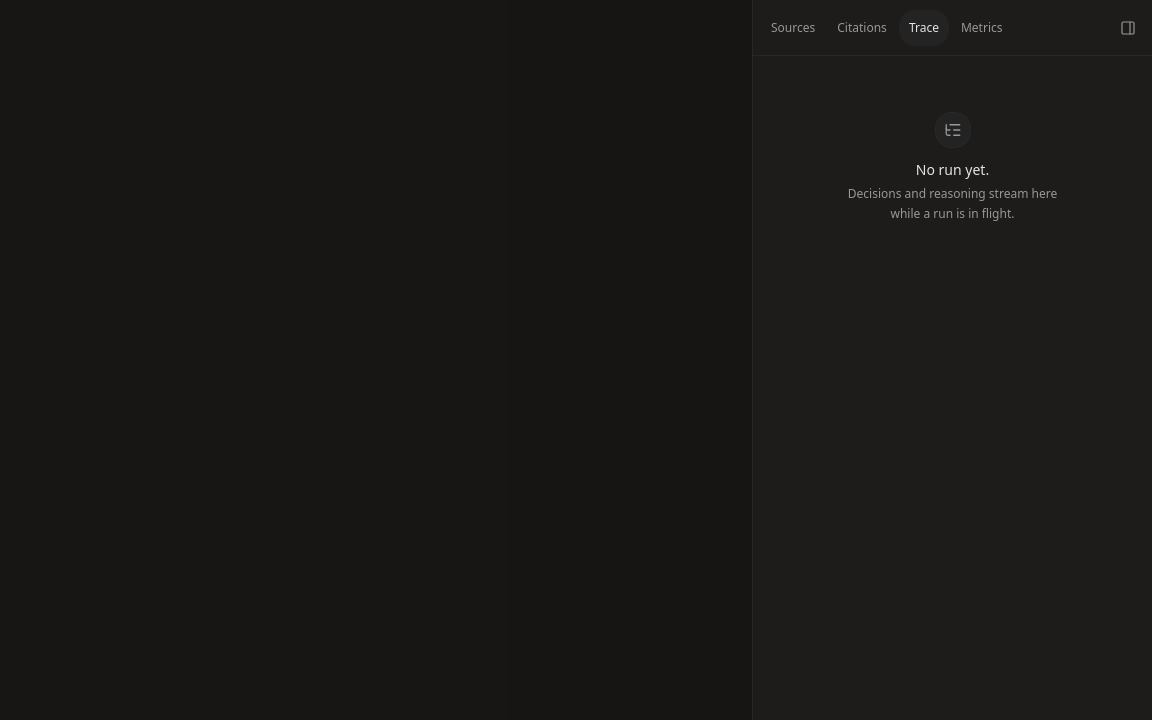
Scenario: workspace panel empty states › Citations, Trace and Metrics each use PanelEmpty
Click the tab "Citations": (862, 28) [827,10,897,46]
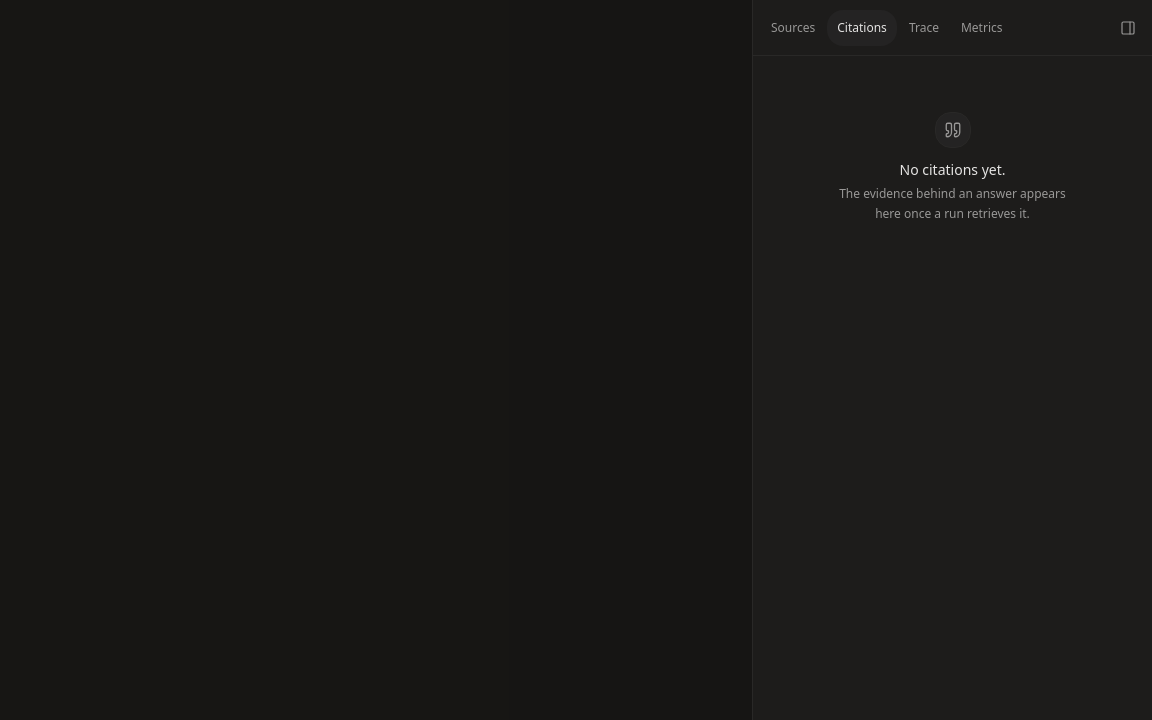
Expected: the text "No citations yet." is shown, [900,160,1006,180]
Expected: the text "The evidence behind an answer appears here once a run retrieves it." is shown, [836,184,1069,224]
Click the tab "Trace": (924, 28) [899,10,949,46]
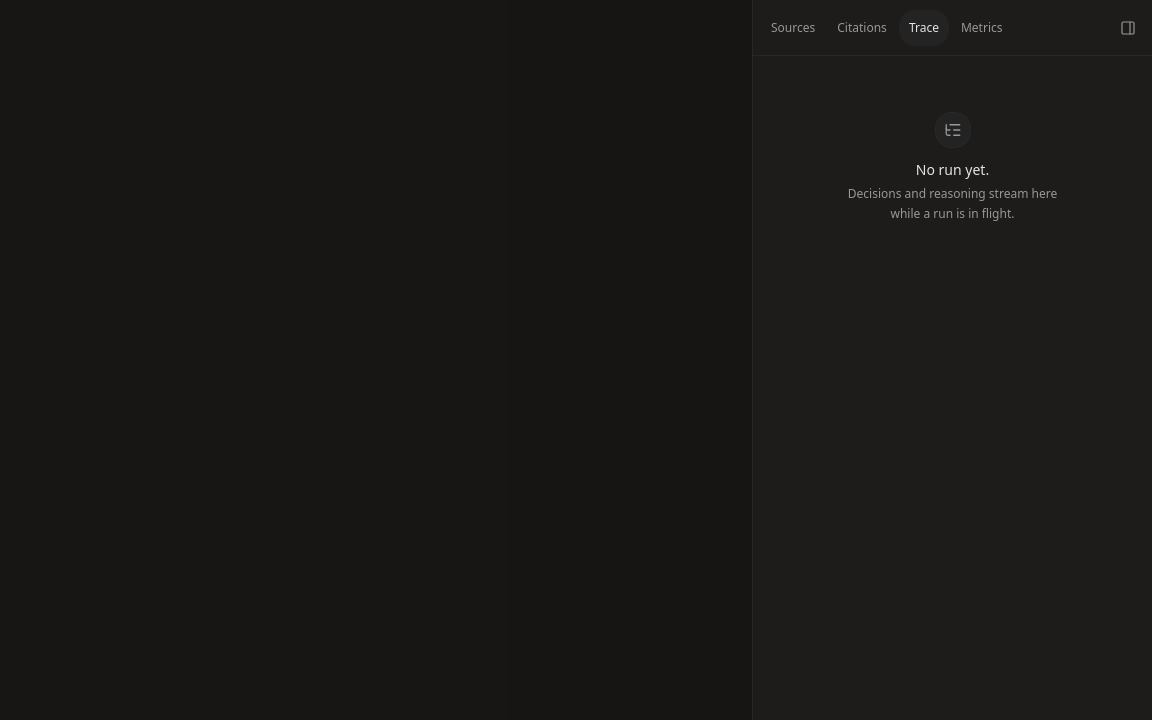
Expected: the text "No run yet." is shown, [916,160,989,180]
Expected: the text "Decisions and reasoning stream here while a run is in flight." is shown, [836,184,1069,224]
Click the tab "Metrics": (982, 28) [951,10,1012,46]
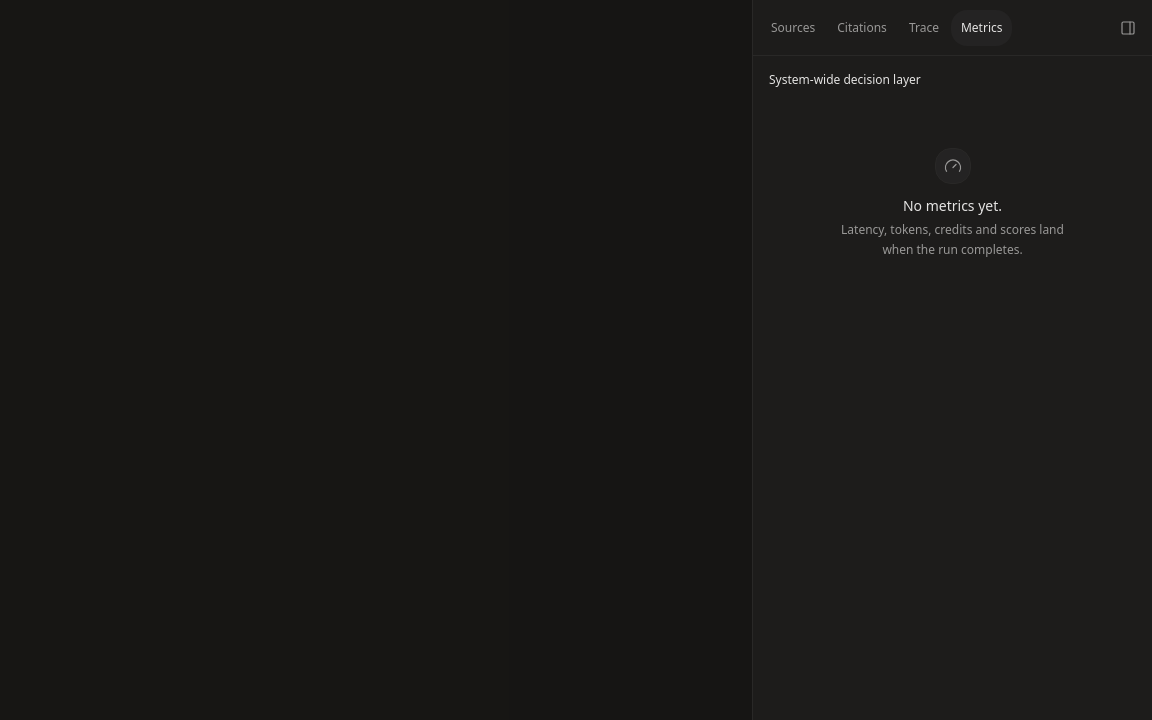
Expected: the text "No metrics yet." is shown, [903,196,1002,216]
Expected: the text "Latency, tokens, credits and scores land when the run completes." is shown, [836,220,1069,260]
